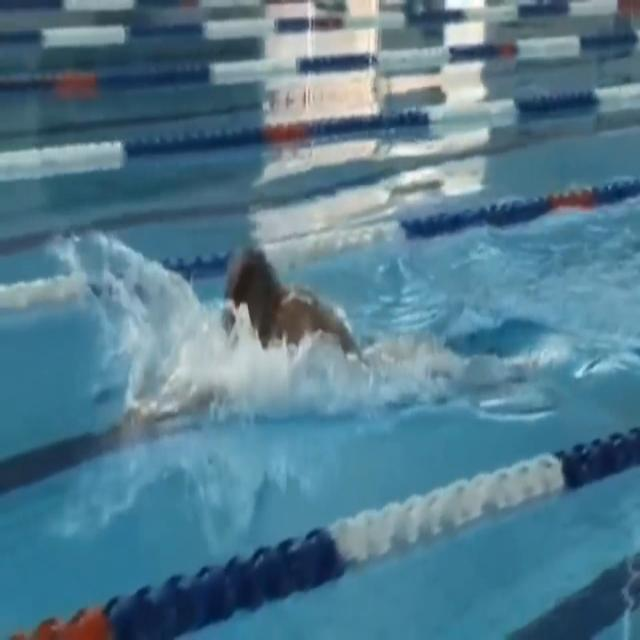Swimming: (215, 244, 371, 405)
